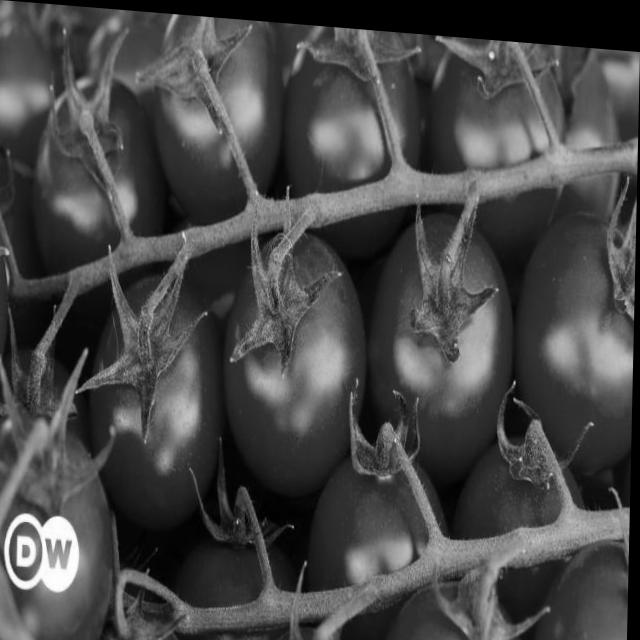kirmizi: (0, 1, 640, 640)
